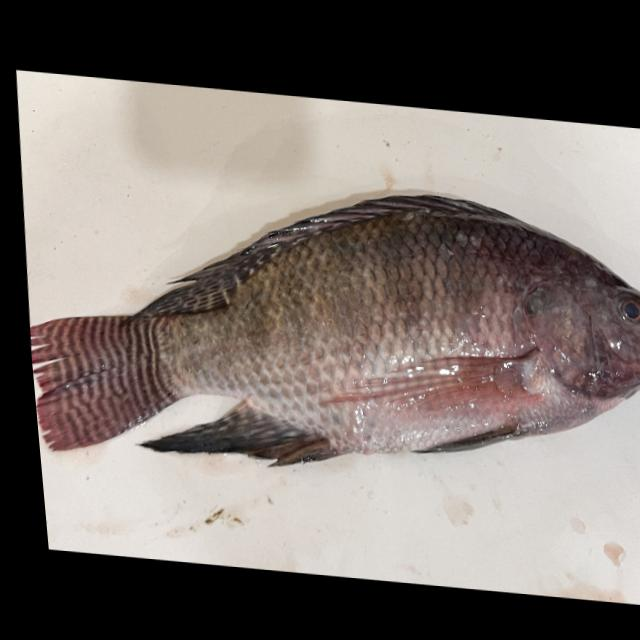Tilapia: (14, 153, 640, 507)
